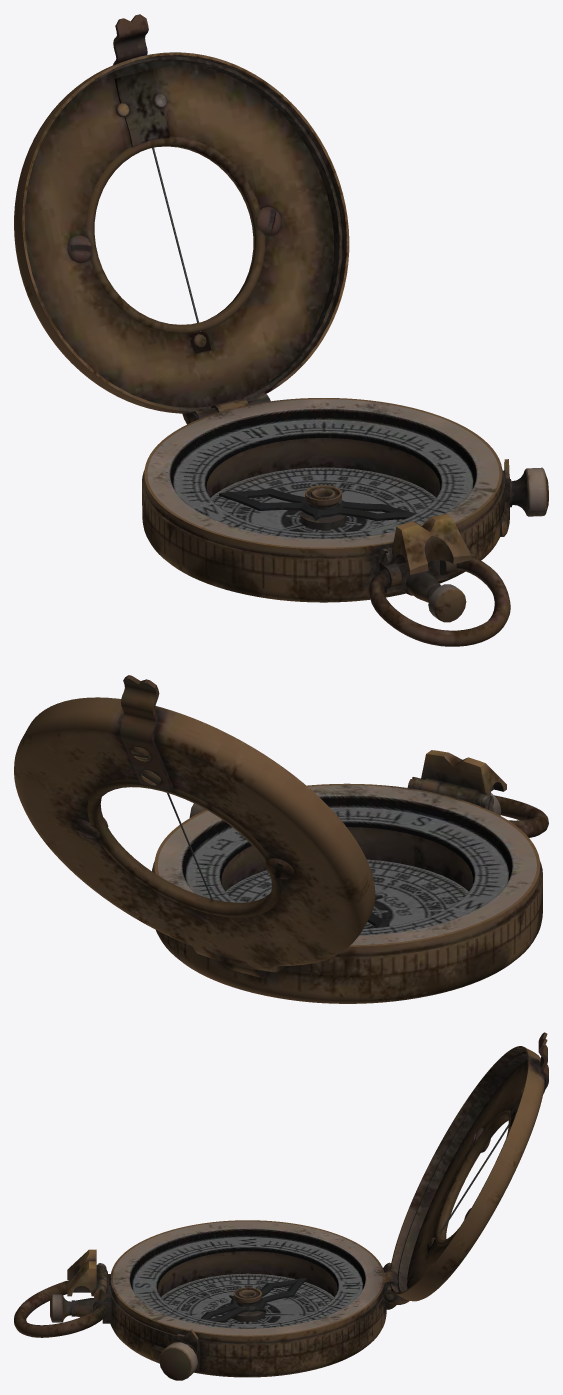
File: seadogs_compass.glb
3 views of the same model, one above another, from view 1: azimuth 30°, elevation 25°; view 2: azimuth 150°, elevation 25°; view 3: azimuth 270°, elevation 25° (orthographic). The views are drawn at different scales.
Parts seen in each view (by area): view 1: seadogs_compass_lid, seadogs_compass, seadogs_compass_needle; view 2: seadogs_compass_lid, seadogs_compass; view 3: seadogs_compass, seadogs_compass_lid, seadogs_compass_needle.
Part boxes in pixels (x1,y1,x2,y2): seadogs_compass_lid: [14, 14, 349, 424]; seadogs_compass: [142, 398, 548, 646]; seadogs_compass_needle: [219, 488, 415, 520]; seadogs_compass_lid: [14, 675, 375, 972]; seadogs_compass: [152, 750, 548, 1003]; seadogs_compass: [14, 1220, 397, 1380]; seadogs_compass_lid: [382, 1032, 548, 1305]; seadogs_compass_needle: [201, 1278, 306, 1322].
Size of the model in its own units: 0.0813 by 0.0866 by 0.1441.
1 material, 1 textured.
